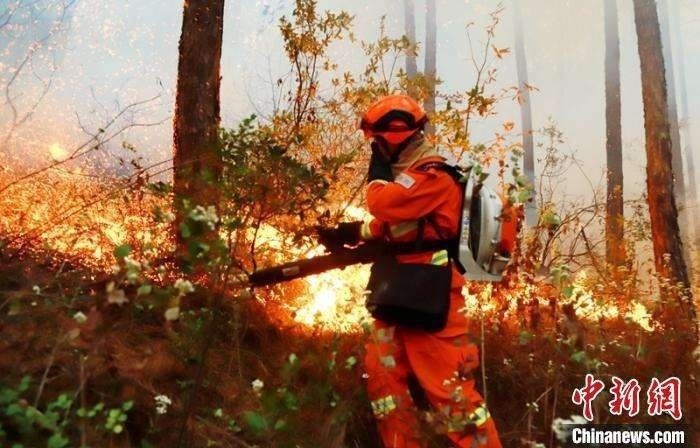fire: (233, 201, 372, 332)
